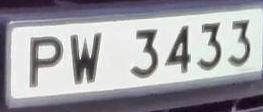3: (126, 23, 164, 82), (194, 16, 226, 76), (224, 14, 255, 74)
4: (160, 20, 195, 77)
P: (23, 28, 70, 91)
W: (66, 27, 109, 91)
